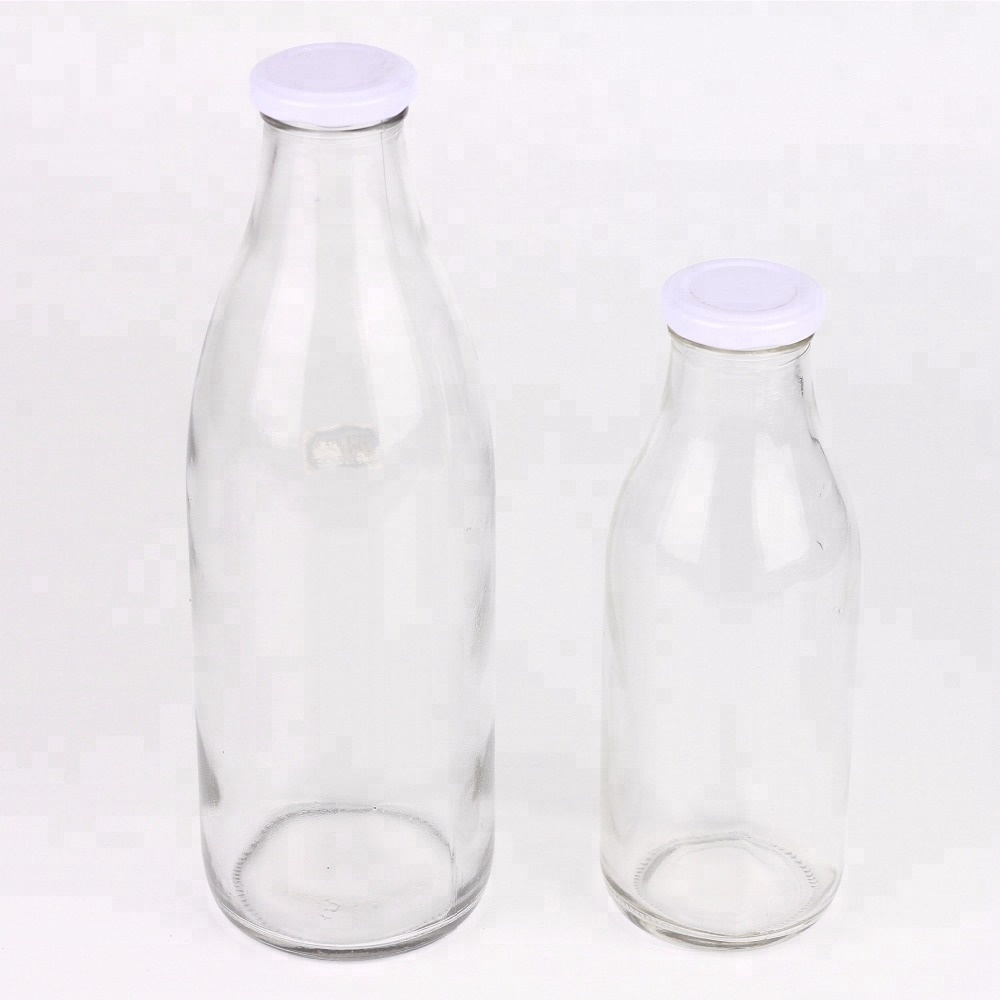glass_bottleww: (80, 5, 567, 985), (539, 171, 890, 976)
